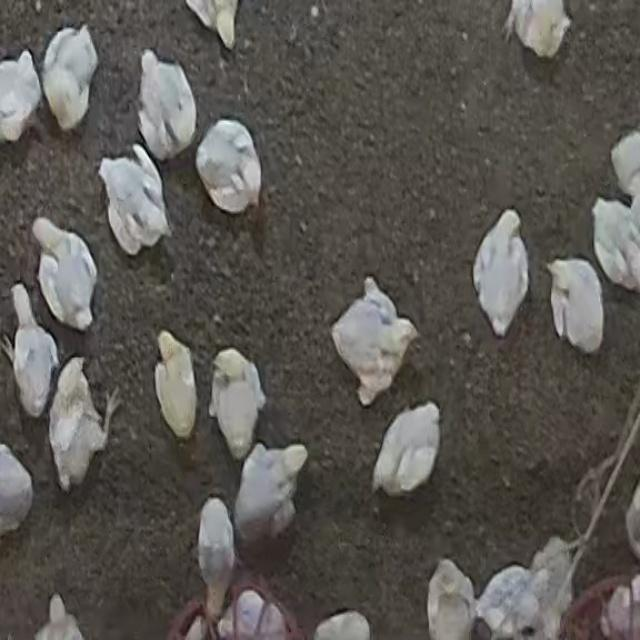chicken: (328, 277, 426, 411), (46, 348, 124, 499), (98, 146, 170, 254), (31, 219, 99, 331), (235, 444, 308, 548), (201, 345, 267, 456), (5, 288, 60, 418), (473, 210, 528, 337), (136, 49, 198, 159), (372, 402, 440, 498), (148, 331, 202, 445), (195, 119, 260, 213), (42, 25, 100, 130), (546, 257, 605, 354), (197, 496, 239, 622), (591, 197, 640, 296), (0, 50, 43, 143)
